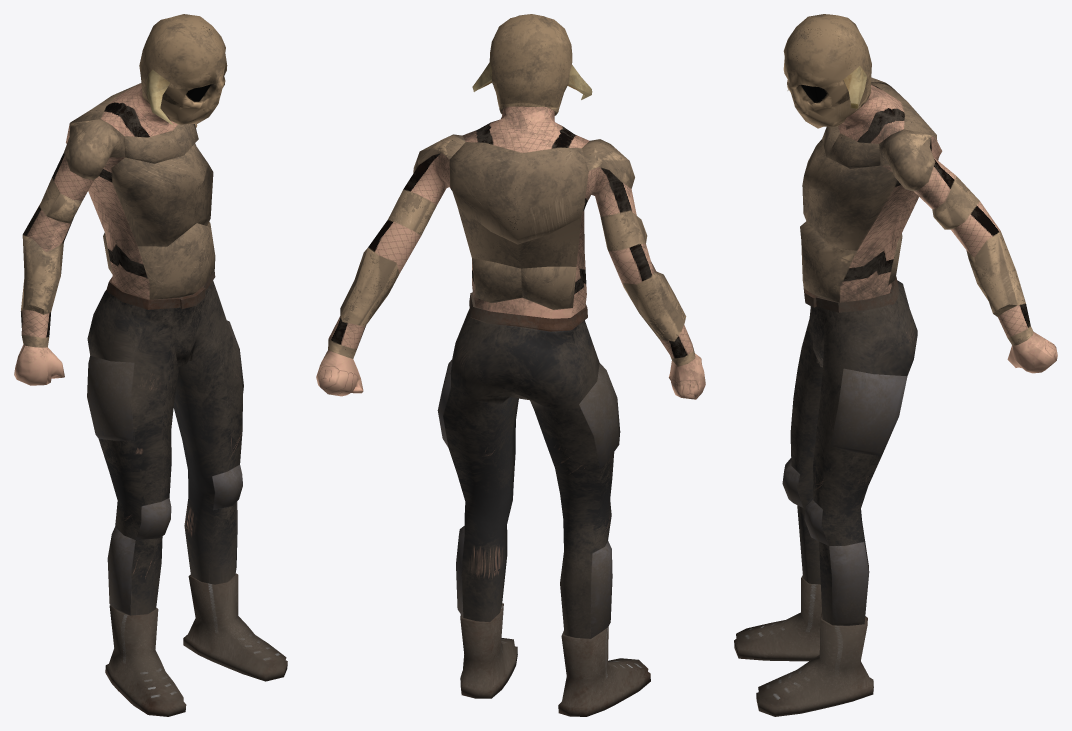
The model's file is Anim_recibirdanyo_npc1.0028.obj.
3 views of the same model, side by side, from view 1: azimuth 30°, elevation 25°; view 2: azimuth 150°, elevation 25°; view 3: azimuth 270°, elevation 25° (orthographic). The views are drawn at different scales.
Visible parts, largest first — view 1: NPC2; view 2: NPC2; view 3: NPC2.
Part boxes in pixels (x1=…): NPC2: x1=14, y1=14, x2=287, y2=716; NPC2: x1=316, y1=14, x2=705, y2=716; NPC2: x1=734, y1=14, x2=1057, y2=716.
Size of the model in its own units: 4.05 by 9.44 by 4.19.
